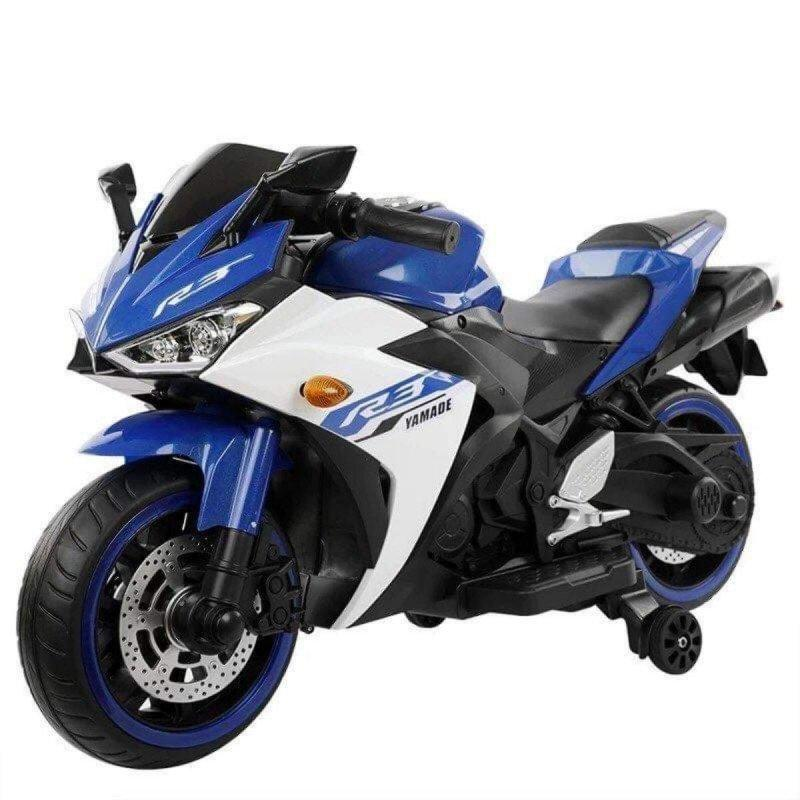motorbike: (15, 142, 789, 770)
